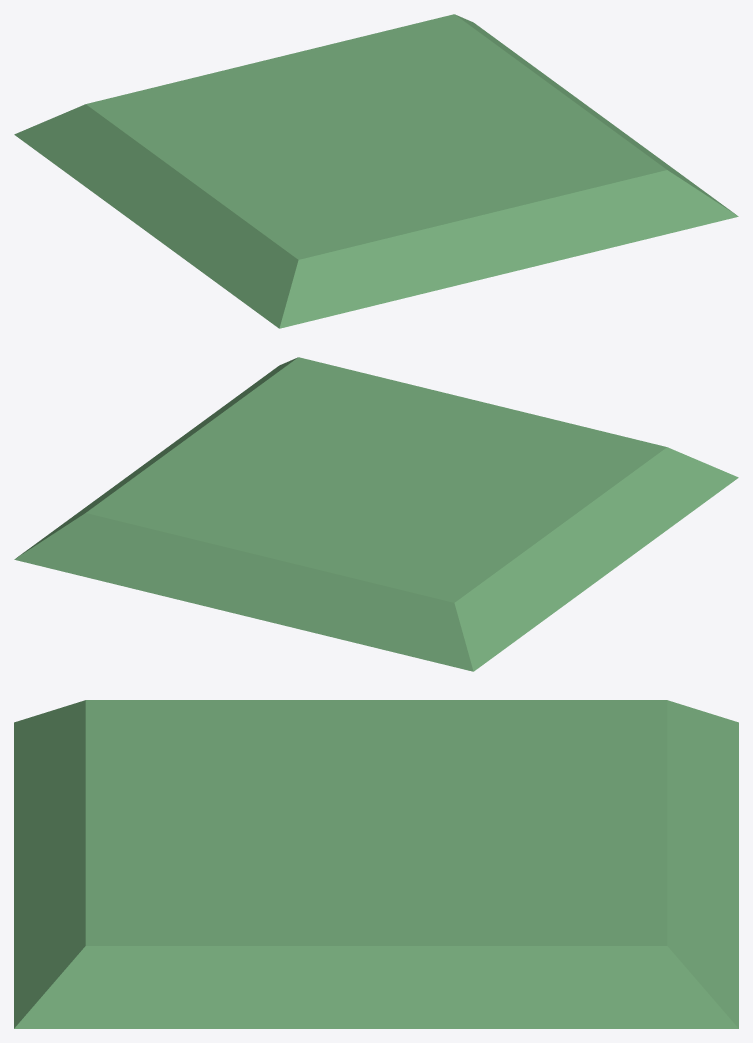
The model's file is GrassTile.fbx.
3 views of the same model, one above another, from view 1: azimuth 30°, elevation 25°; view 2: azimuth 150°, elevation 25°; view 3: azimuth 270°, elevation 25° (orthographic). The views are drawn at different scales.
Visible parts, largest first — view 1: Tile; view 2: Tile; view 3: Tile.
Boxes of the visible parts, box(x1,y1,x2,y2) form: Tile: box(14, 14, 738, 328); Tile: box(14, 357, 738, 671); Tile: box(14, 700, 738, 1028).
Bounding box in the file's own units: 1.25 × 0.1 × 1.25.
